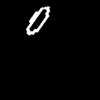chain: (27, 7, 49, 34)
